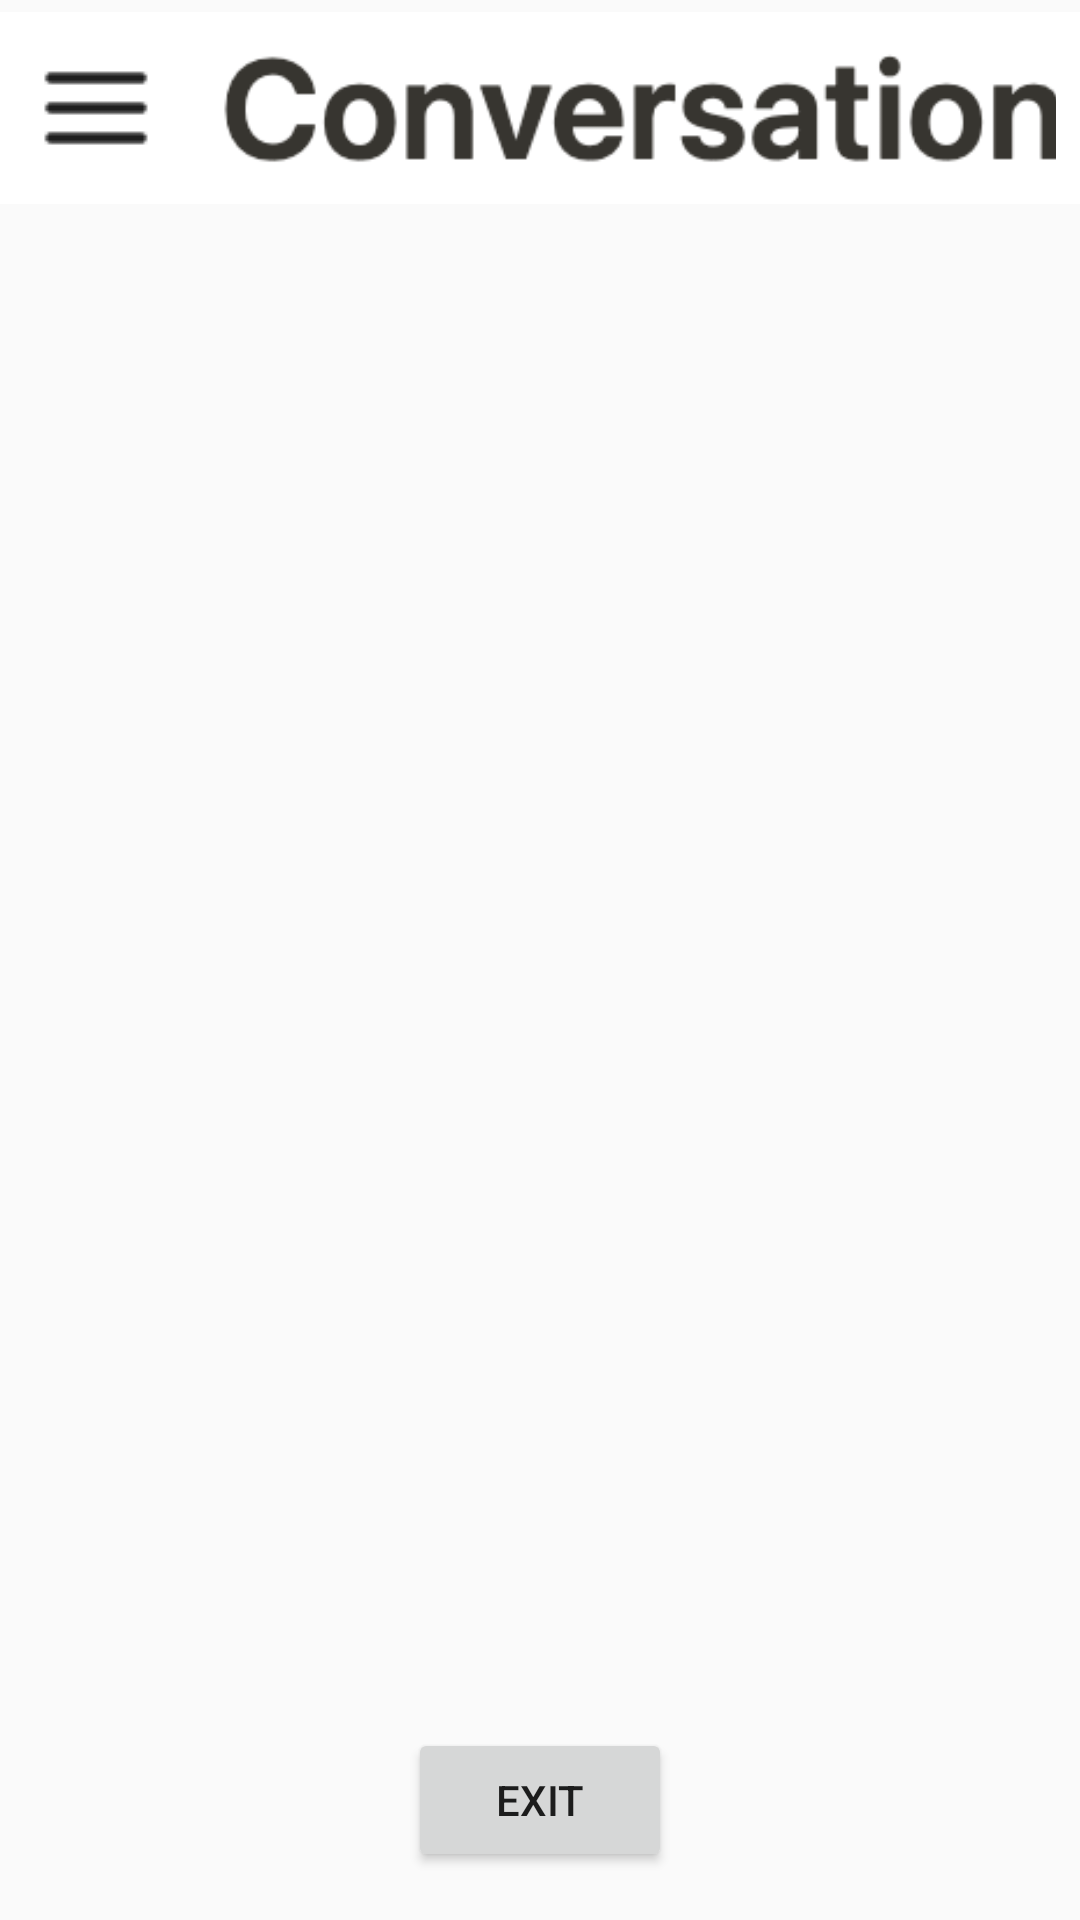

Point at icon controls on the screen. Image size 1080px×1920px, points as [x,y].
Menu Button: [96,108]
